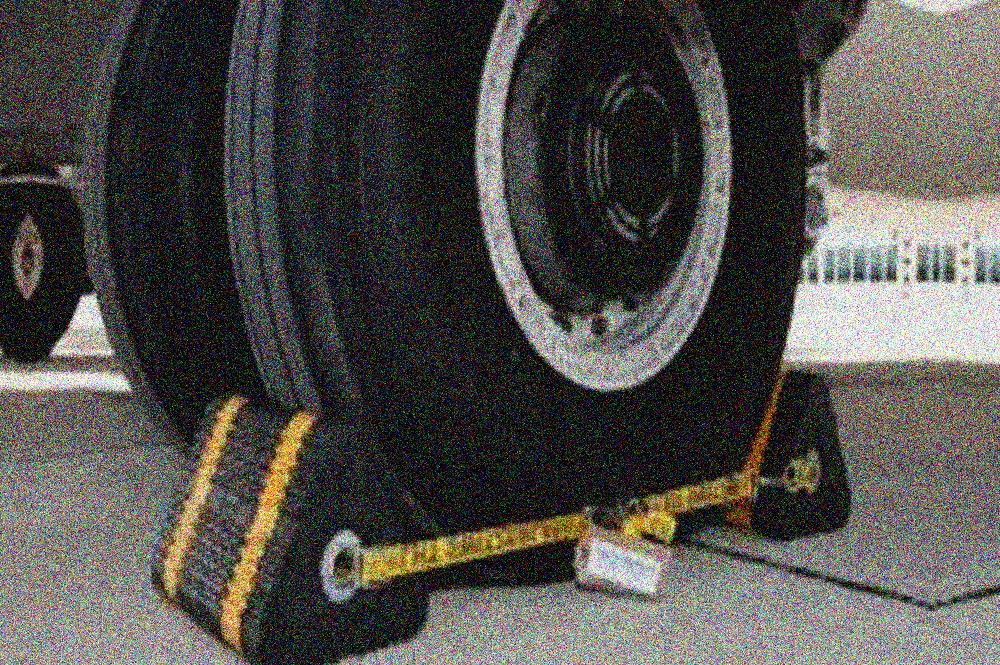chock: (146, 391, 438, 665), (743, 366, 856, 538)
wheel: (198, 0, 835, 554), (83, 0, 292, 453), (26, 184, 87, 359), (0, 183, 28, 358)
